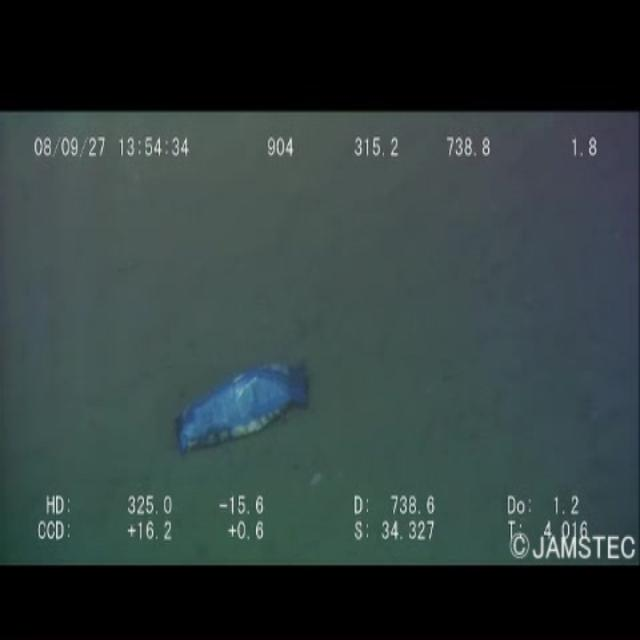Litter: (169, 349, 322, 458)
